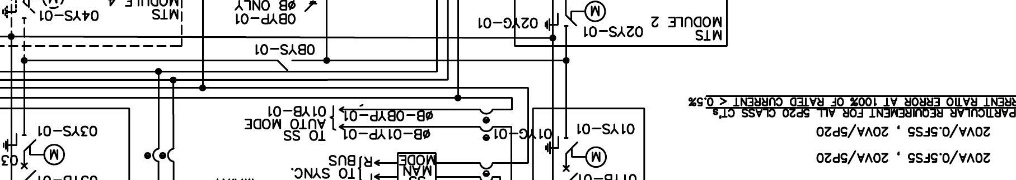115_3ways_ds_w_motor: (2, 133, 66, 166), (545, 135, 607, 168)
115_ds: (277, 59, 294, 71)
